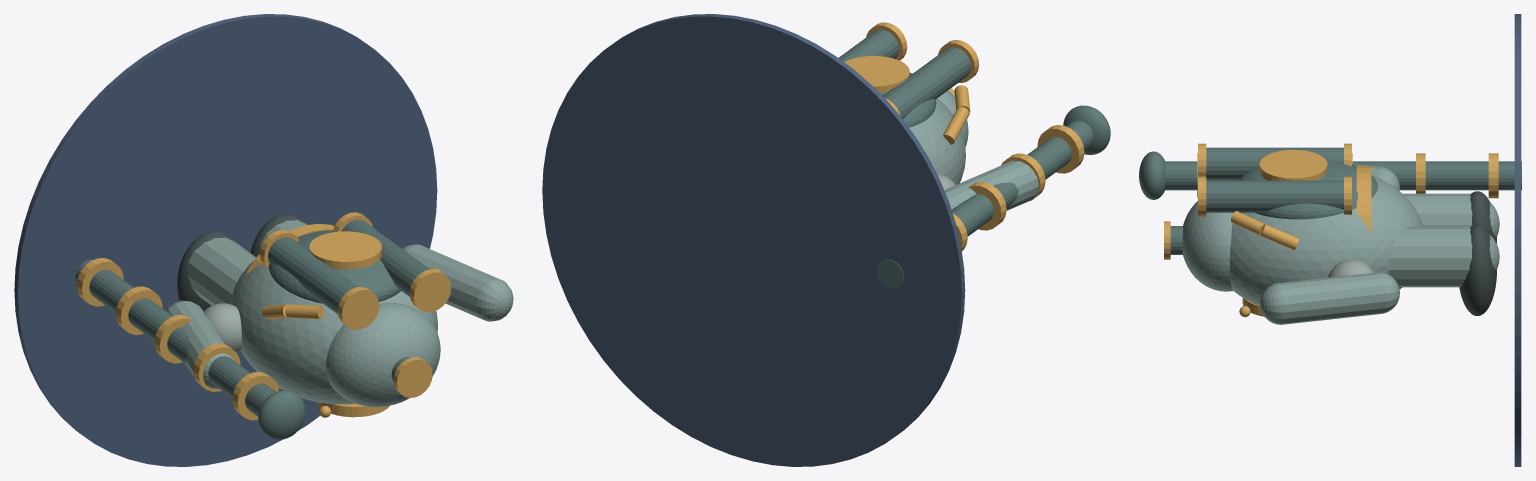
Rendered from thach_quy_prototype.glb.
3 renders of one model, left to right at view 1: azimuth 30°, elevation 25°; view 2: azimuth 150°, elevation 25°; view 3: azimuth 270°, elevation 25°, orthographic. The views are drawn at different scales.
Parts seen in each view (by area): view 1: Preview Ground, Armored torso, Helmet dome, Ancient staff, Right arm, Left leg, Oxygen tank -0.48, Backpack, Back pressure ring, Left arm, Staff cap, Oxygen tank +0.48 (+13 smaller); view 2: Preview Ground, Ancient staff, Oxygen tank -0.48, Armored torso, Left arm, Back pressure ring, Staff cap, Oxygen tank +0.48, Staff brass band 3.95, Staff brass band 2.15; view 3: Armored torso, Right arm, Right leg, Ancient staff, Oxygen tank +0.48, Preview Ground, Helmet dome, Oxygen tank -0.48, Right boot, Left leg, Backpack, Back pressure ring (+8 smaller).
Part boxes in pixels (x1,y1,x2,y2): Preview Ground: (14, 14, 437, 466); Armored torso: (230, 261, 437, 404); Helmet dome: (326, 302, 440, 407); Ancient staff: (75, 259, 275, 416); Right arm: (402, 244, 513, 321); Left leg: (187, 237, 256, 305); Oxygen tank -0.48: (268, 237, 357, 314); Backpack: (268, 230, 400, 303); Back pressure ring: (309, 231, 381, 269); Left arm: (166, 300, 234, 388); Staff cap: (258, 390, 305, 439); Oxygen tank +0.48: (342, 219, 429, 296); Preview Ground: (542, 14, 965, 466); Ancient staff: (876, 120, 1093, 288); Oxygen tank -0.48: (882, 47, 970, 118); Armored torso: (909, 98, 965, 184); Left arm: (944, 160, 1038, 210); Back pressure ring: (844, 56, 909, 92); Staff cap: (1063, 105, 1110, 154); Oxygen tank +0.48: (839, 29, 899, 62); Staff brass band 3.95: (1037, 125, 1084, 173); Staff brass band 2.15: (968, 182, 1006, 230); Armored torso: (1229, 175, 1422, 306); Right arm: (1260, 272, 1399, 324); Right leg: (1388, 226, 1499, 287); Ancient staff: (1165, 161, 1521, 190); Oxygen tank +0.48: (1206, 180, 1343, 212); Preview Ground: (1514, 14, 1521, 466); Helmet dome: (1182, 201, 1233, 291); Oxygen tank -0.48: (1206, 147, 1343, 179); Right boot: (1459, 224, 1496, 315); Left leg: (1403, 193, 1499, 236); Backpack: (1239, 160, 1377, 219); Back pressure ring: (1259, 149, 1327, 180).
Bounding box in the file's own units: 5.6 × 5.6 × 4.73.
